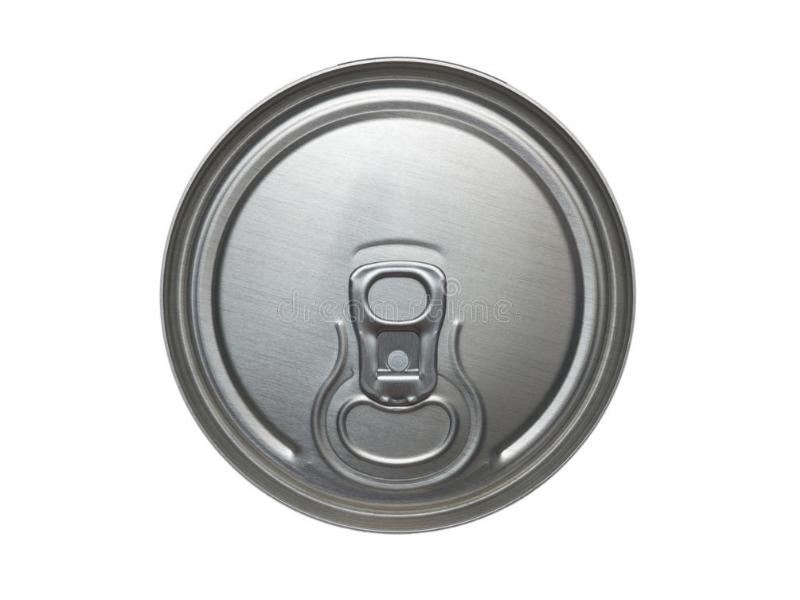can: (163, 56, 630, 530)
